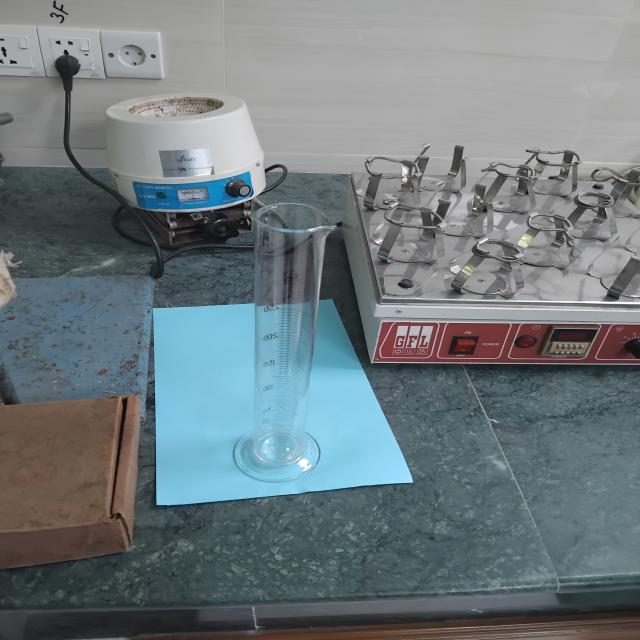Measuring_Cylinder: (192, 169, 347, 506)
